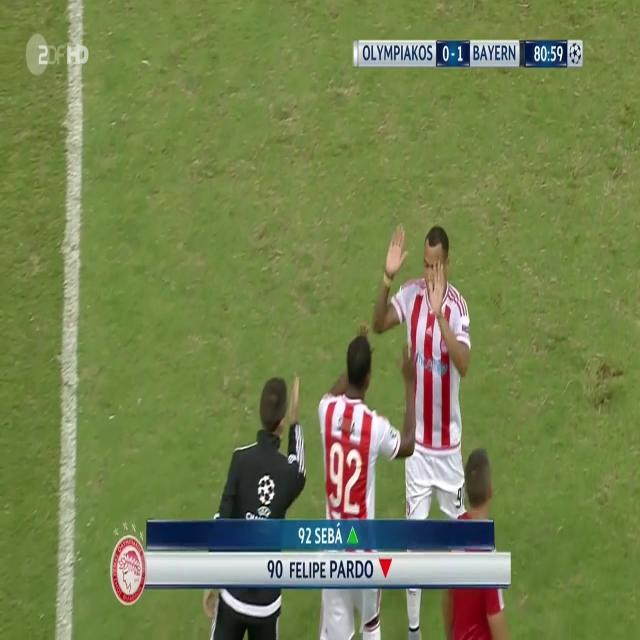Player: (312, 326, 420, 640), (372, 218, 470, 516), (444, 448, 510, 640)
